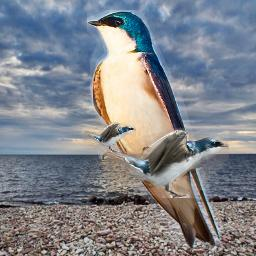Swallow: (87, 10, 222, 249), (98, 128, 229, 198), (80, 122, 136, 152)
